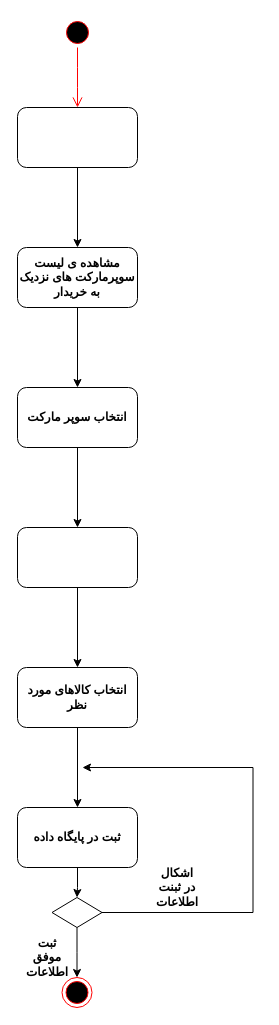
This 279x1025 diagram has some shape labels left out. The centre of each missing label's shape, as x and y in pixels:
"انتخاب گزینه ی نمایش سوپر مارکت ها" goes at [77,137].
"مشاده ی محتوای سوپرمارکت" goes at [77,557].
